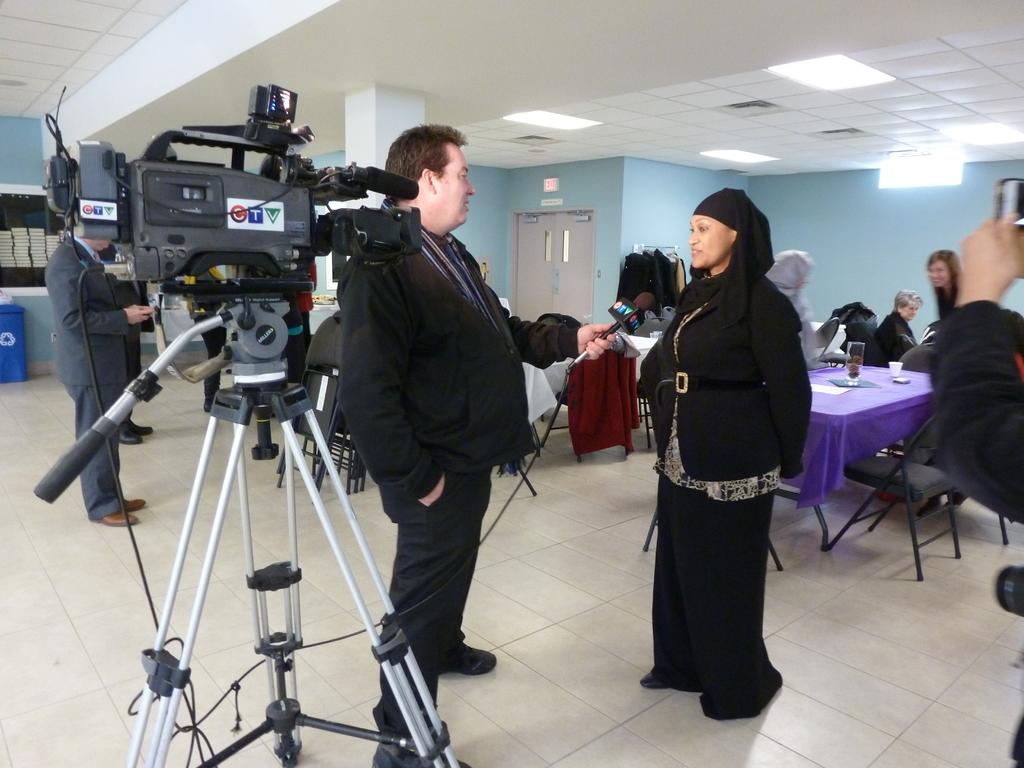Chair: (829, 397, 982, 595), (636, 381, 787, 578), (269, 314, 367, 505), (886, 346, 944, 452), (636, 315, 673, 420), (799, 315, 837, 372), (821, 326, 862, 365)
